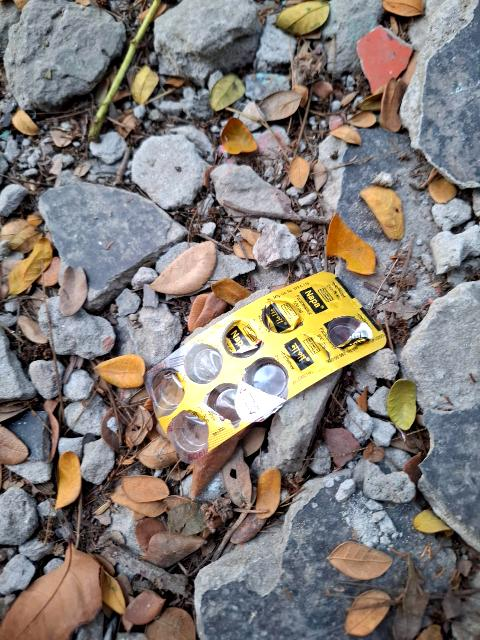medicine: (119, 234, 414, 473)
